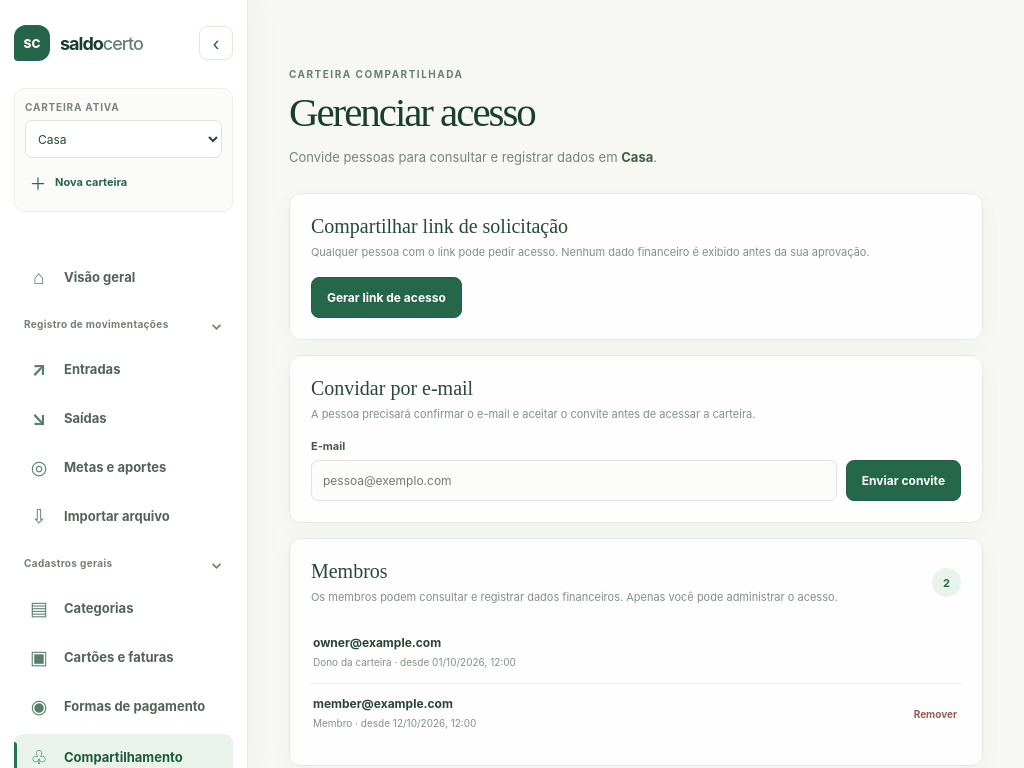
Test: wallet sharing management › creates and displays a shareable access request link
This screenshot has width=1024, height=768.
Click the button "Gerar link de acesso".
click(386, 297)  # box x1=311 y1=277 x2=462 y2=318
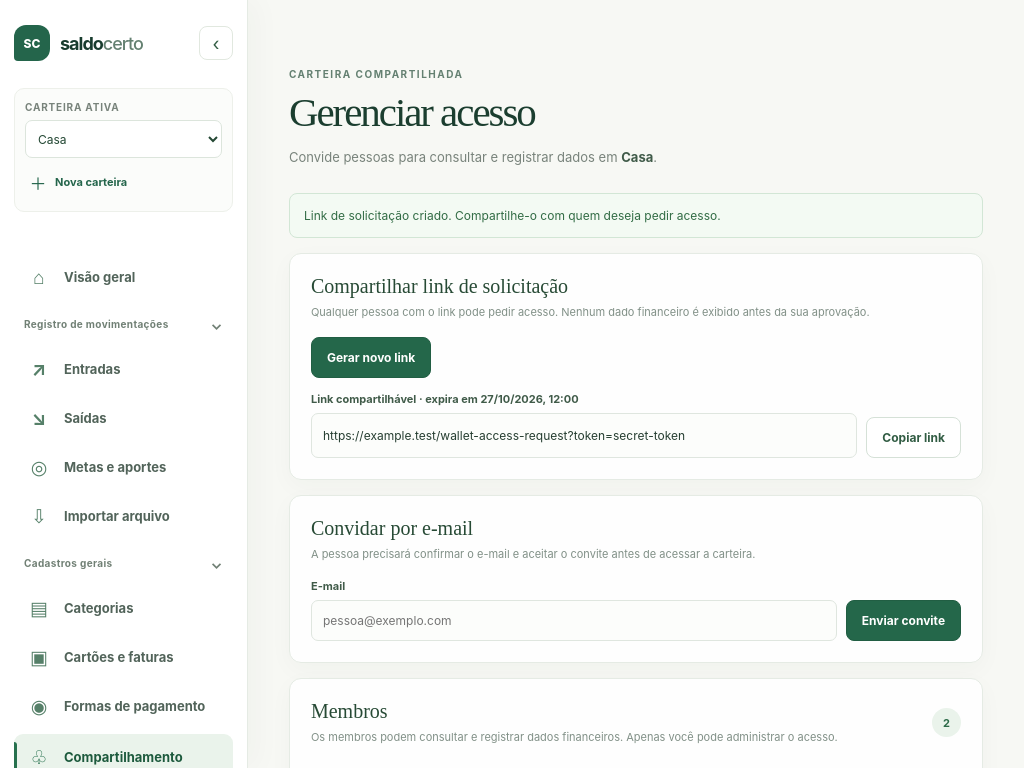
Check: the field labelled "Link compartilhável · expira em 27/10/2026, 12:00" holds "https://example.test/wallet-access-request?token=secret-token", box x1=311 y1=413 x2=857 y2=458
Check: the message shows "Link de solicitação criado", box x1=304 y1=208 x2=721 y2=223
